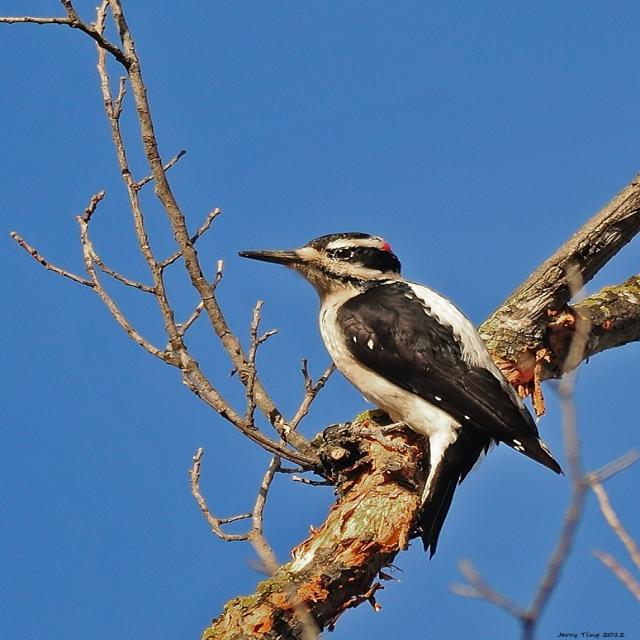bird: (228, 219, 572, 556)
